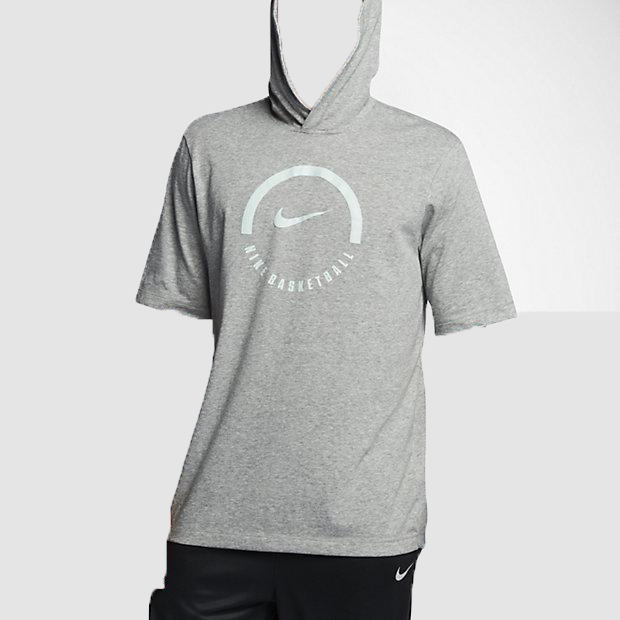teeshirt: (94, 1, 526, 571)
